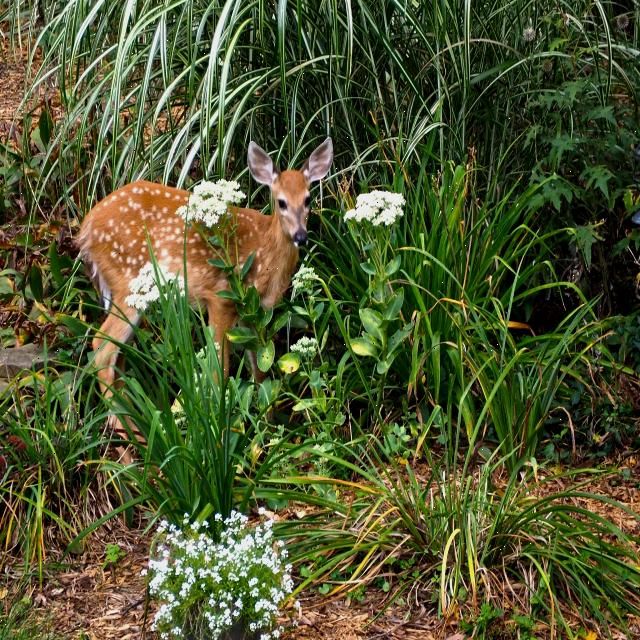deer: (67, 115, 342, 433)
